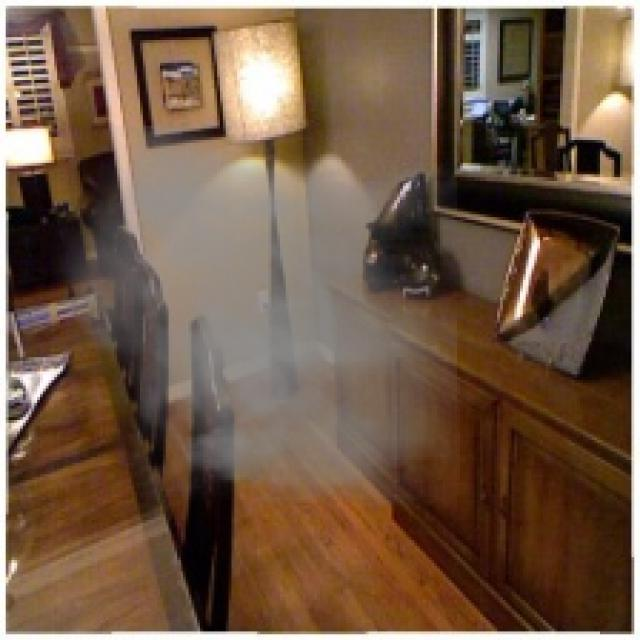Smoke: (42, 126, 458, 508)
